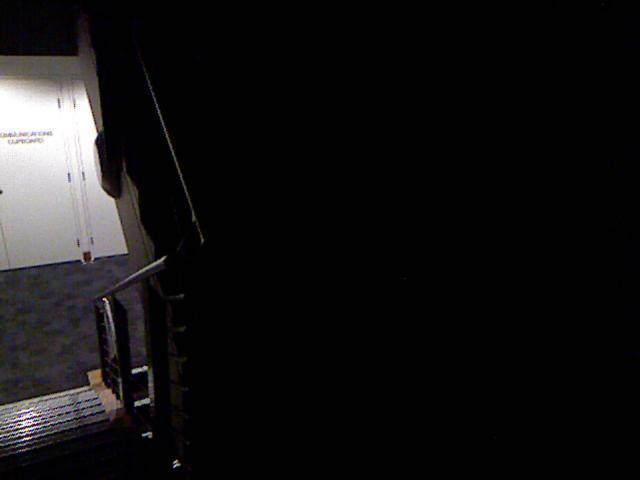Escaleras: (121, 89, 284, 469), (0, 350, 118, 477)
